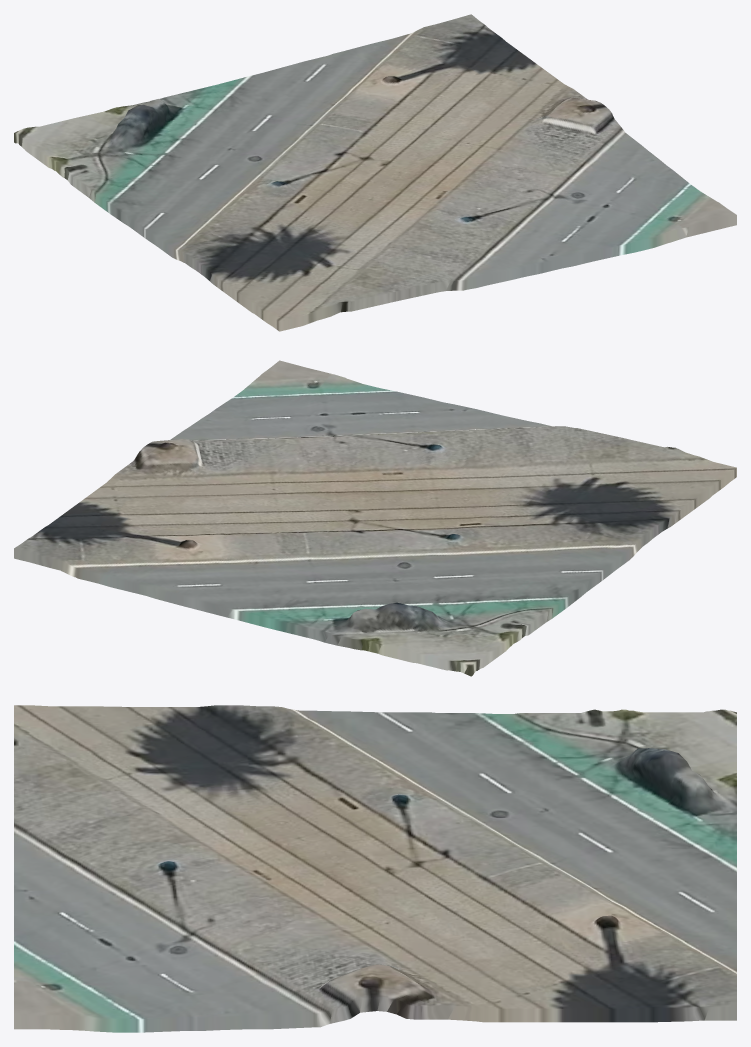
File: z20-167776-405203-h0-yup-uvflip-v3-world.glb
The picture shows the model from 3 angles, top to bottom: view 1: azimuth 30°, elevation 25°; view 2: azimuth 150°, elevation 25°; view 3: azimuth 270°, elevation 25°; orthographic projection. The views are drawn at different scales.
Bounding box in the file's own units: 30.16 × 2 × 30.32.
Materials: 1 (1 with a texture image).
